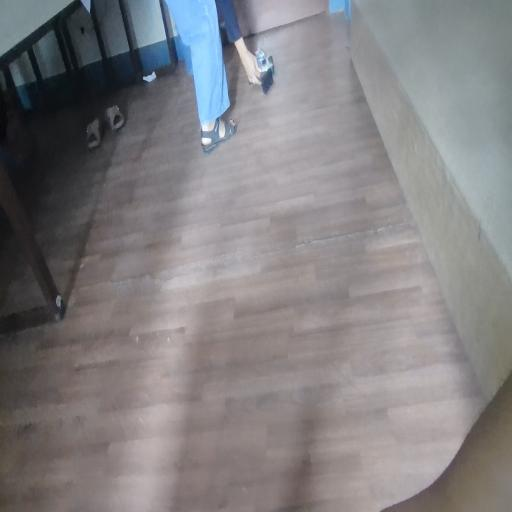car: (254, 43, 270, 72)
